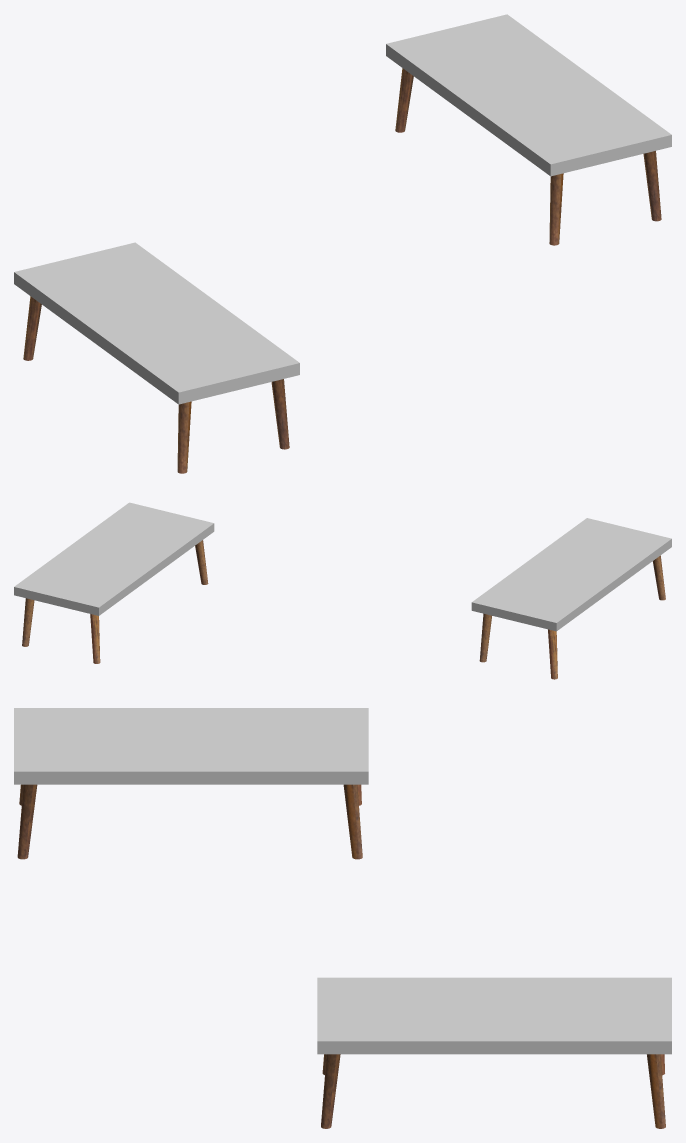
The model's file is CoffeeTables.obj.
3 renders of one model, top to bottom at view 1: azimuth 30°, elevation 25°; view 2: azimuth 150°, elevation 25°; view 3: azimuth 270°, elevation 25°, orthographic. The views are drawn at different scales.
Visible parts, largest first — view 1: CoffeeTables; view 2: CoffeeTables; view 3: CoffeeTables.
Boxes of the visible parts, left/top/right/bottom form: CoffeeTables: left=14, top=14, right=671, bottom=473; CoffeeTables: left=14, top=502, right=671, bottom=679; CoffeeTables: left=14, top=708, right=671, bottom=1128.
Size of the model in its own units: 22.68 by 2.9 by 18.93.
Materials: 2 (1 with a texture image).
